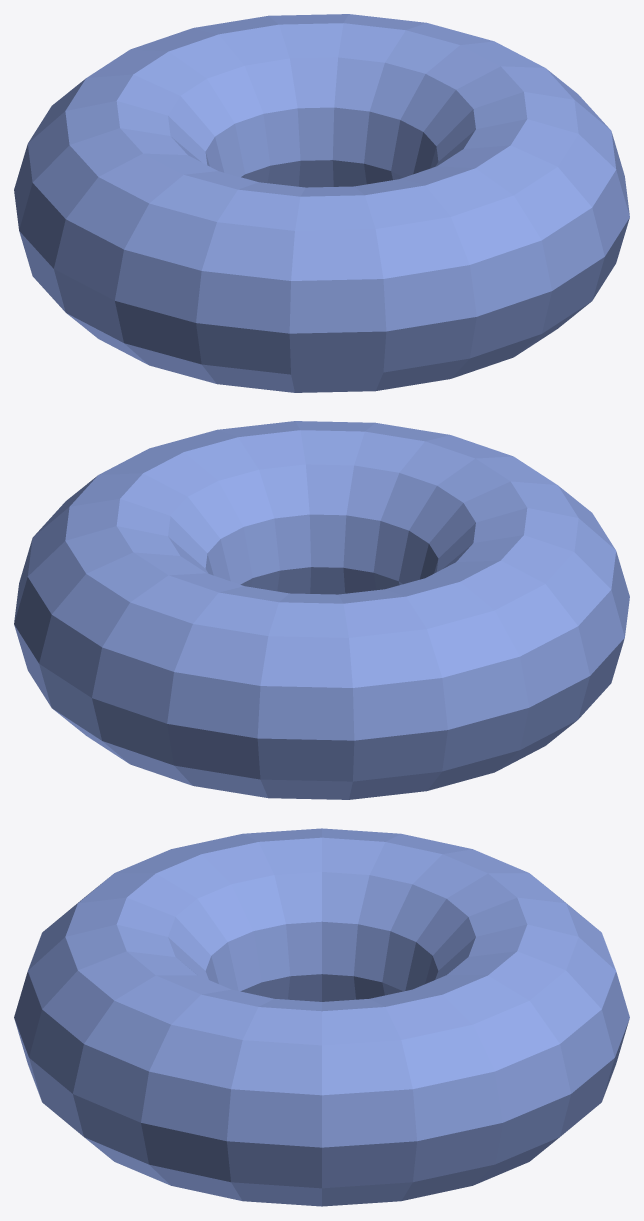
3 renders of one model, top to bottom at view 1: azimuth 30°, elevation 25°; view 2: azimuth 150°, elevation 25°; view 3: azimuth 270°, elevation 25°, orthographic.
Visible parts, largest first — view 1: Torus.002; view 2: Torus.002; view 3: Torus.002.
Part boxes in pixels (bbox=[...]): Torus.002: bbox=[14, 14, 629, 392]; Torus.002: bbox=[14, 421, 629, 799]; Torus.002: bbox=[14, 828, 629, 1206].
Bounding box in the file's own units: 6 × 2 × 6.
